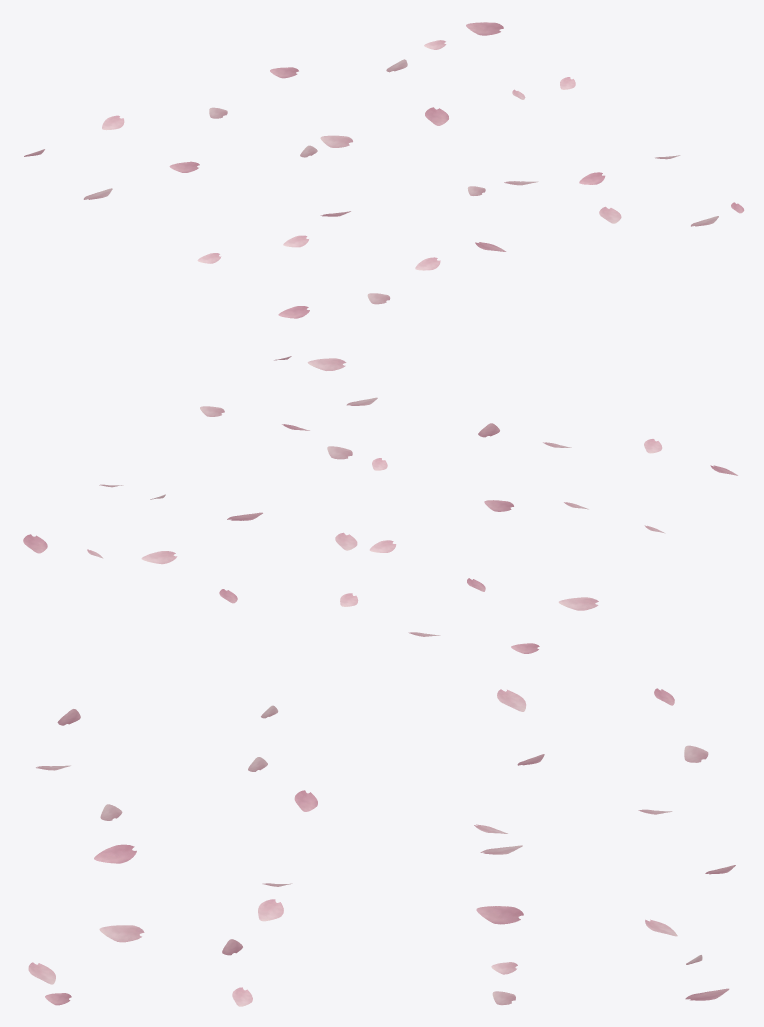
The model's file is sakura_floating_petals.glb.
3 views of the same model, one above another, from view 1: azimuth 30°, elevation 25°; view 2: azimuth 150°, elevation 25°; view 3: azimuth 270°, elevation 25° (orthographic). The views are drawn at different scales.
Visible parts, largest first — view 1: sakura_floating_petals; view 2: sakura_floating_petals; view 3: sakura_floating_petals.
Boxes of the visible parts, box(x1,y1,x2,y2) form: sakura_floating_petals: box(24, 22, 744, 318); sakura_floating_petals: box(23, 356, 737, 653); sakura_floating_petals: box(28, 688, 735, 1006).
Bounding box in the file's own units: 2 × 0.03 × 1.9.
Materials: 1 (1 with a texture image).
